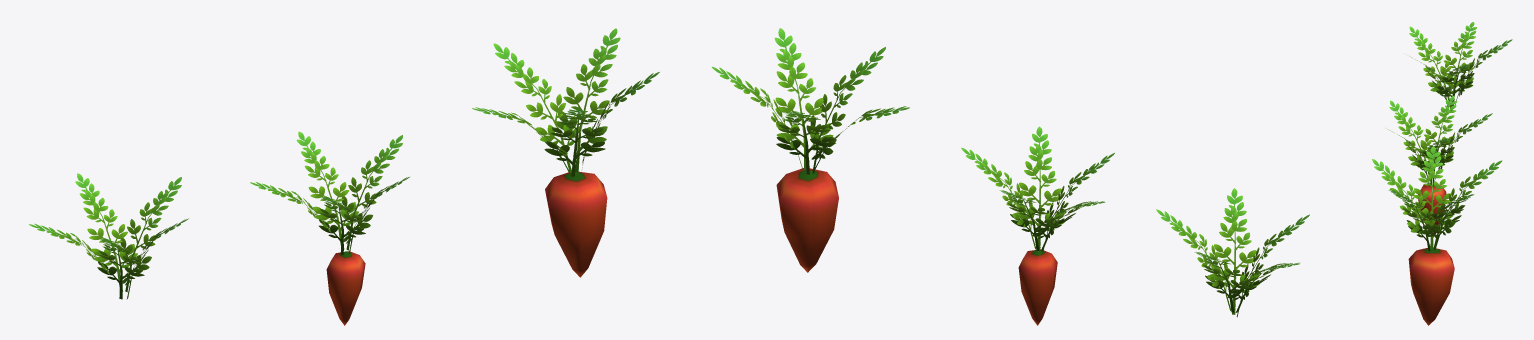
The model's file is Carrot_Lv.FBX.
3 renders of one model, left to right at view 1: azimuth 30°, elevation 25°; view 2: azimuth 150°, elevation 25°; view 3: azimuth 270°, elevation 25°, orthographic. The views are drawn at different scales.
Visible parts, largest first — view 1: Carrot_Lv3, Carrot_Lv2, Carrot_Lv1; view 2: Carrot_Lv3, Carrot_Lv2, Carrot_Lv1; view 3: Carrot_Lv3, Carrot_Lv2, Carrot_Lv1.
Boxes of the visible parts, <box> form: Carrot_Lv3: <box>472,28,659,277</box>; Carrot_Lv2: <box>250,131,409,325</box>; Carrot_Lv1: <box>29,173,188,299</box>; Carrot_Lv3: <box>711,28,909,272</box>; Carrot_Lv2: <box>961,126,1114,325</box>; Carrot_Lv1: <box>1156,188,1309,317</box>; Carrot_Lv3: <box>1372,146,1502,325</box>; Carrot_Lv2: <box>1388,96,1492,237</box>; Carrot_Lv1: <box>1409,22,1512,110</box>.
Size of the model in its own units: 272 by 91.65 by 84.92.
